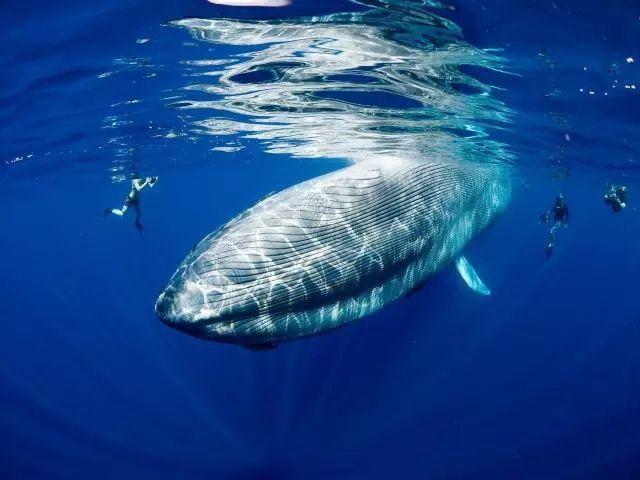fish: (150, 147, 520, 350)
